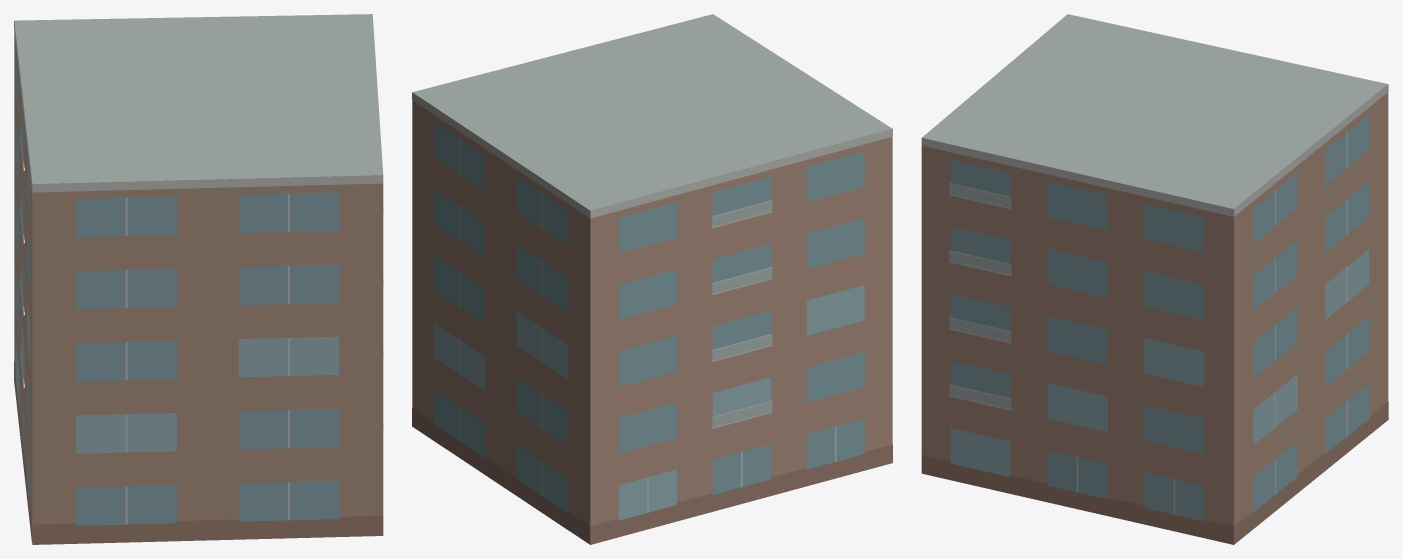
The model's file is survey-upis-32955614.glb.
The picture shows the model from 3 angles, left to right: view 1: azimuth 30°, elevation 25°; view 2: azimuth 150°, elevation 25°; view 3: azimuth 270°, elevation 25°; orthographic projection. The views are drawn at different scales.
Parts seen in each view (by area): view 1: survey-upis-32955614.tmp; view 2: survey-upis-32955614.tmp; view 3: survey-upis-32955614.tmp.
Part boxes in pixels (<box>): survey-upis-32955614.tmp: <box>14,14,383,544</box>; survey-upis-32955614.tmp: <box>412,14,892,544</box>; survey-upis-32955614.tmp: <box>921,14,1388,544</box>.
Size of the model in its own units: 13.1 by 10.5 by 13.24.
